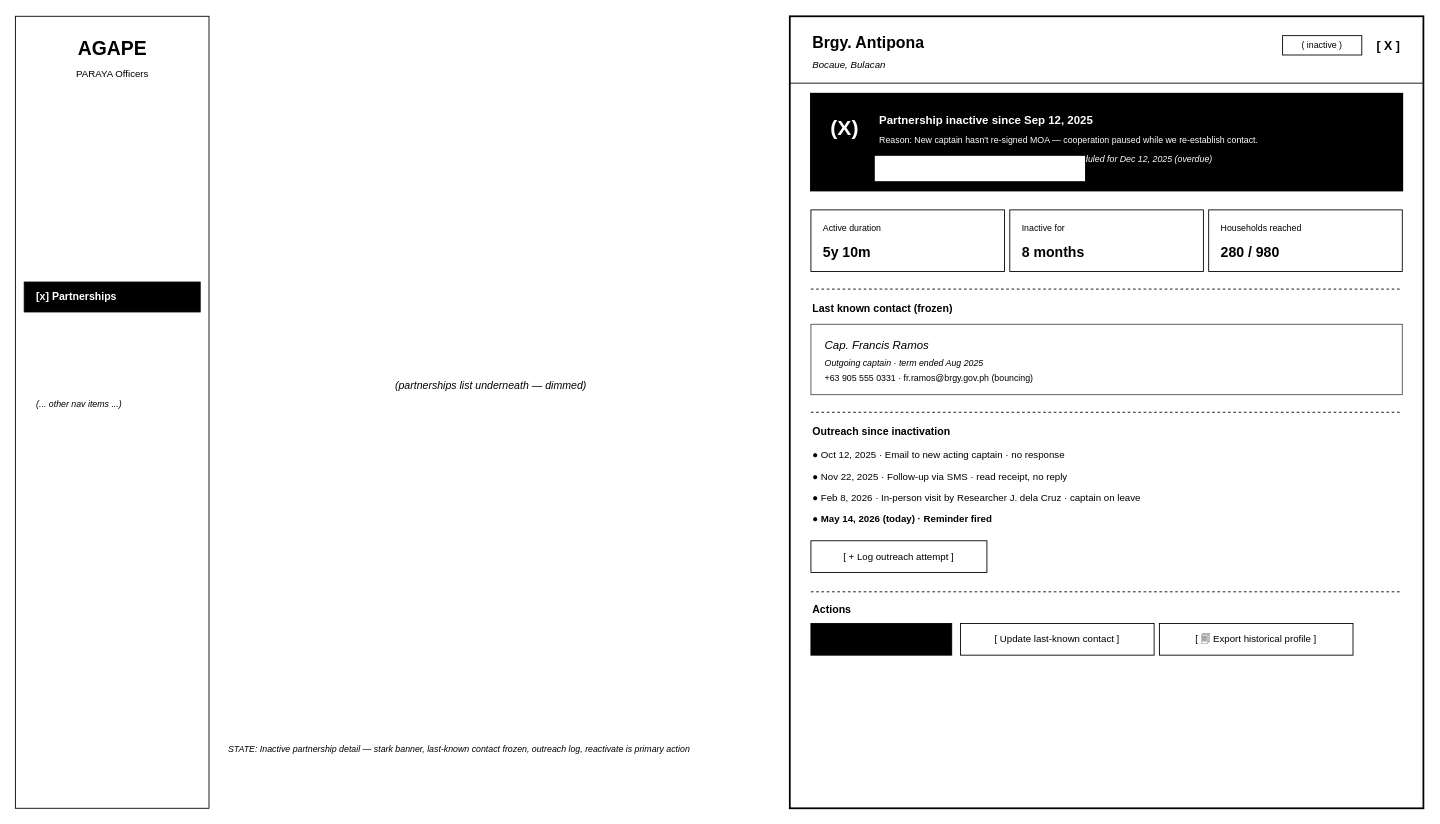
Image size: 1440x824. Some labels were removed from this diagram. Here are the shapes that lost their labels. From the top down, the centre of each, then its label:
[979,168]: [ ⟳ REACTIVATE PARTNERSHIP ]
[881,639]: [ ⟳ Reactivate ]
